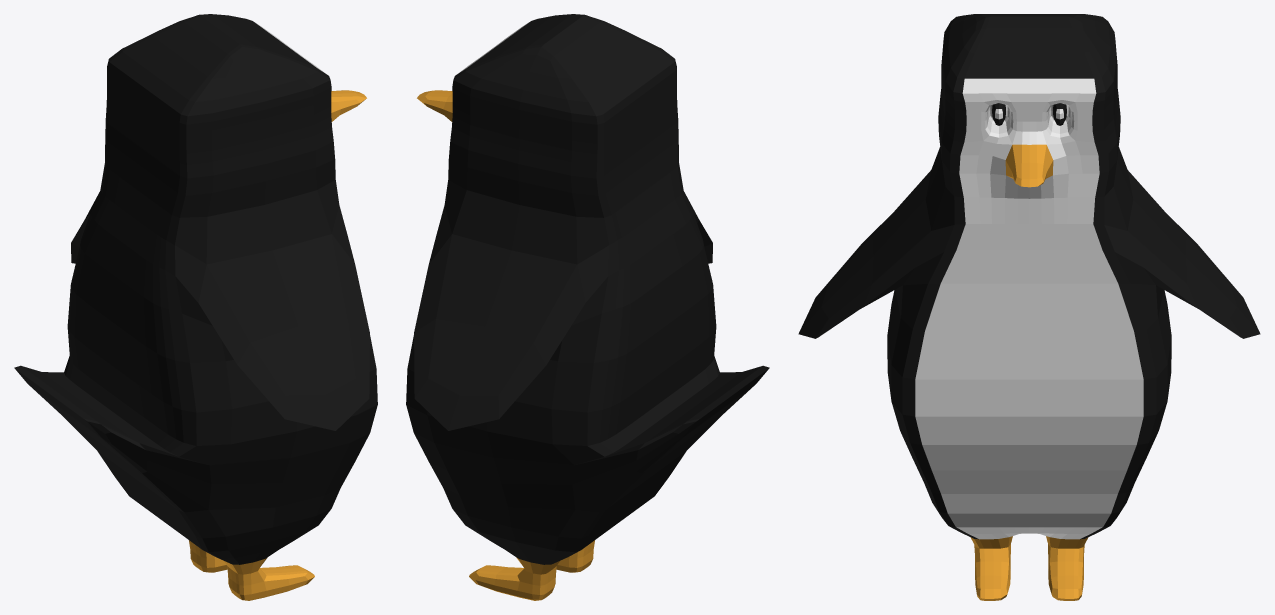
Rendered from PenguinProp.fbx.
3 renders of one model, left to right at view 1: azimuth 30°, elevation 25°; view 2: azimuth 150°, elevation 25°; view 3: azimuth 270°, elevation 25°, orthographic.
Parts seen in each view (by area): view 1: PenguinBody; view 2: PenguinBody; view 3: PenguinBody.
Boxes of the visible parts, x1=… form: PenguinBody: x1=14, y1=14, x2=377, y2=600; PenguinBody: x1=406, y1=14, x2=769, y2=600; PenguinBody: x1=798, y1=14, x2=1260, y2=600.
Bounding box in the file's own units: 411 × 689 × 519.
